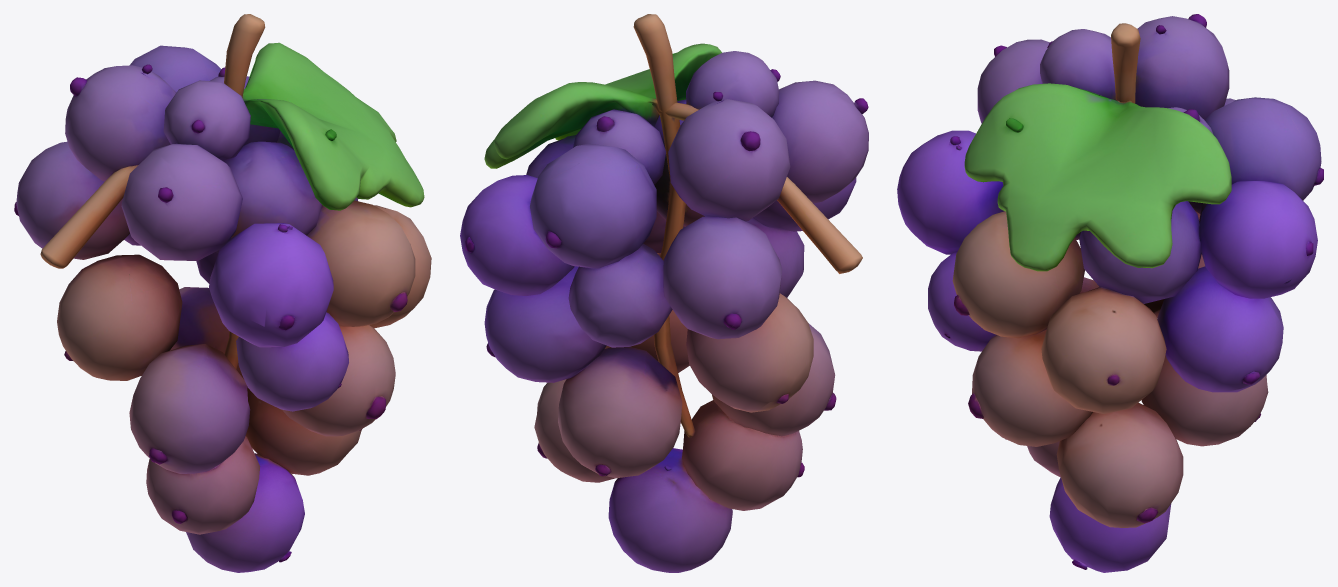
File: grapes.glb
The picture shows the model from 3 angles, left to right: view 1: azimuth 30°, elevation 25°; view 2: azimuth 150°, elevation 25°; view 3: azimuth 270°, elevation 25°; orthographic projection. The views are drawn at different scales.
Parts seen in each view (by area): view 1: tripo_node_c4d75235-9045-4a6e-9d99-404bc8a33ea2; view 2: tripo_node_c4d75235-9045-4a6e-9d99-404bc8a33ea2; view 3: tripo_node_c4d75235-9045-4a6e-9d99-404bc8a33ea2.
Part boxes in pixels (x1,y1,x2,y2): tripo_node_c4d75235-9045-4a6e-9d99-404bc8a33ea2: [14, 14, 431, 572]; tripo_node_c4d75235-9045-4a6e-9d99-404bc8a33ea2: [460, 14, 868, 572]; tripo_node_c4d75235-9045-4a6e-9d99-404bc8a33ea2: [897, 14, 1323, 572].
Bounding box in the file's own units: 0.7129 × 0.998 × 0.7051.
1 material, 1 textured.
